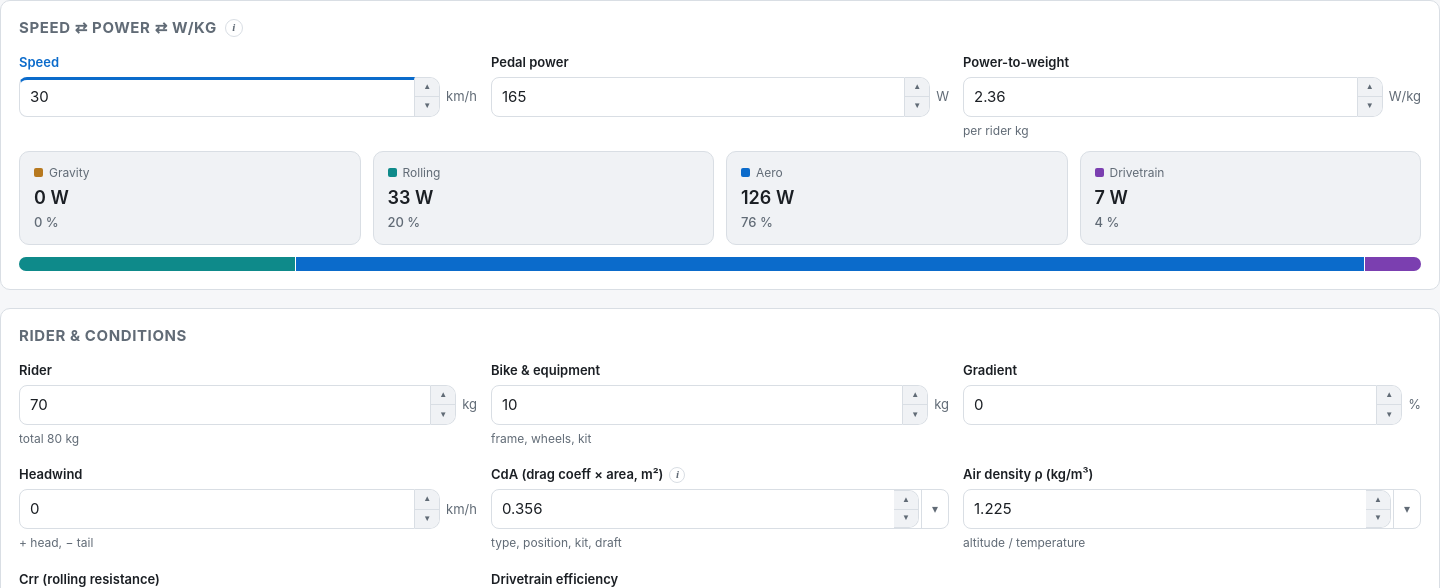
Test case: Cycling power › opens the CdA estimator from the caret and applies only on change
// The caret on the CdA field opens the estimator directly (no preset list).
Click the button titled "Estimate CdA from bike, position & kit" below "CdA (drag coeff × area, m²)" at (934, 509), box [921,490,948,528]
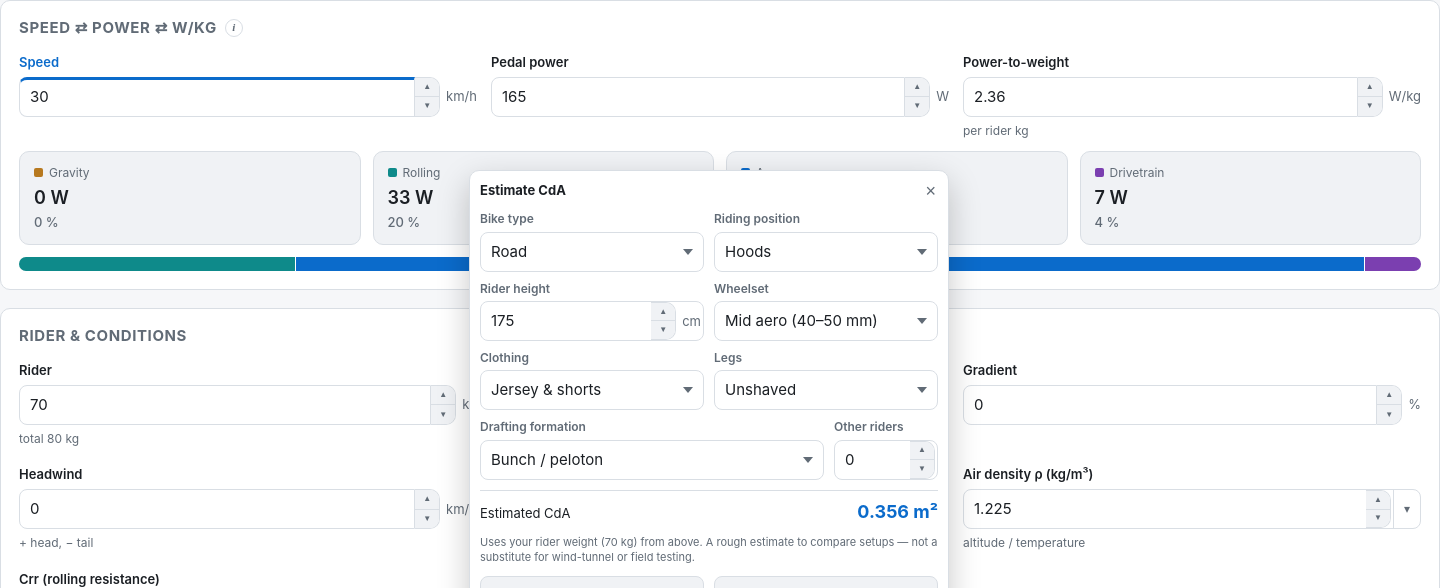
Check: the text "Estimate CdA" is shown, box [480,181,566,200]
// Switching to a velomobile (bike type is the first select) slashes the CdA.
Select "Velomobile (faired)" in the dropdown labelled "Bike type" at (592, 252), box [480,232,704,272]
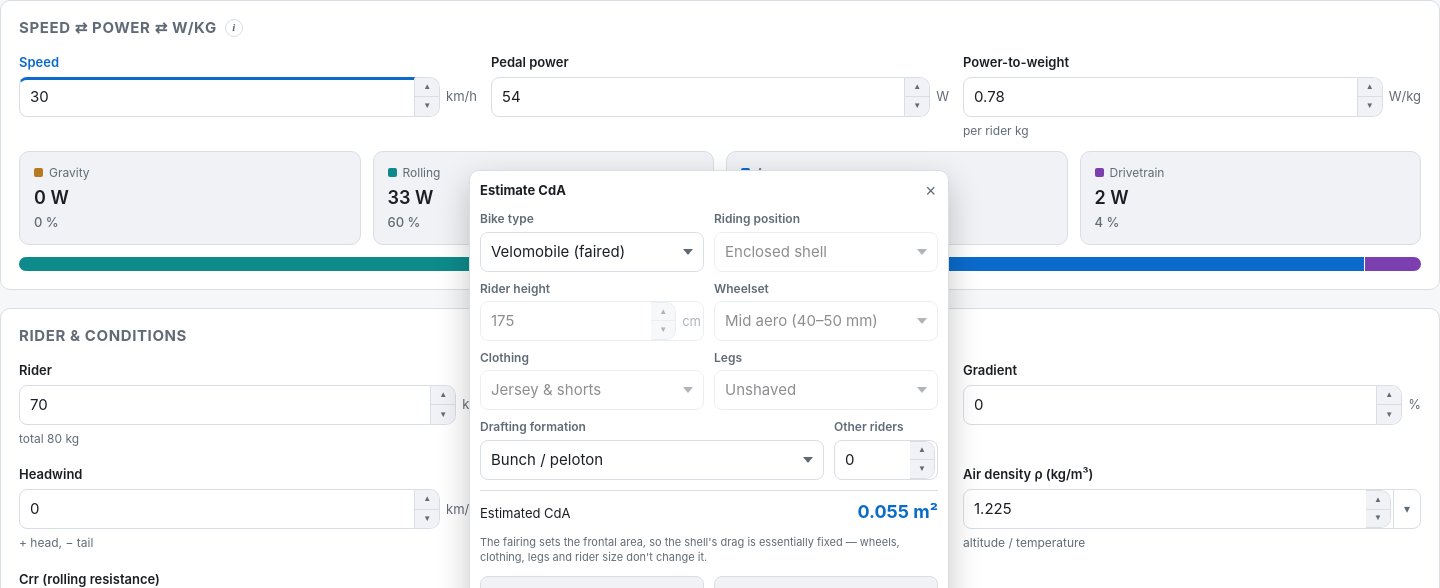
// Closing it leaves the field editable again.
Click the button named "Close" at (931, 191), box [924,182,938,200]
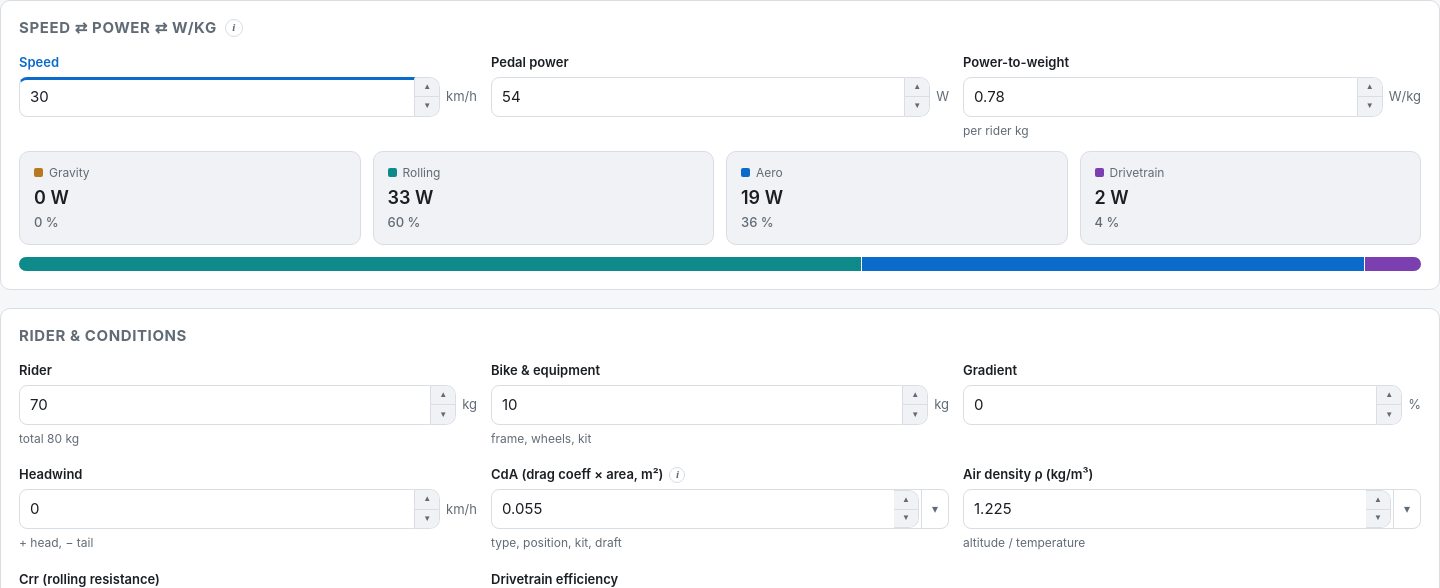
Check: the text "Estimate CdA" is gone
